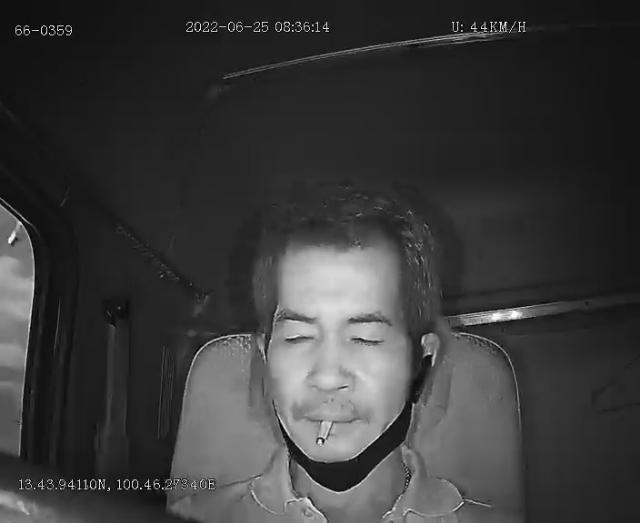Smoking: (315, 420, 333, 448)
